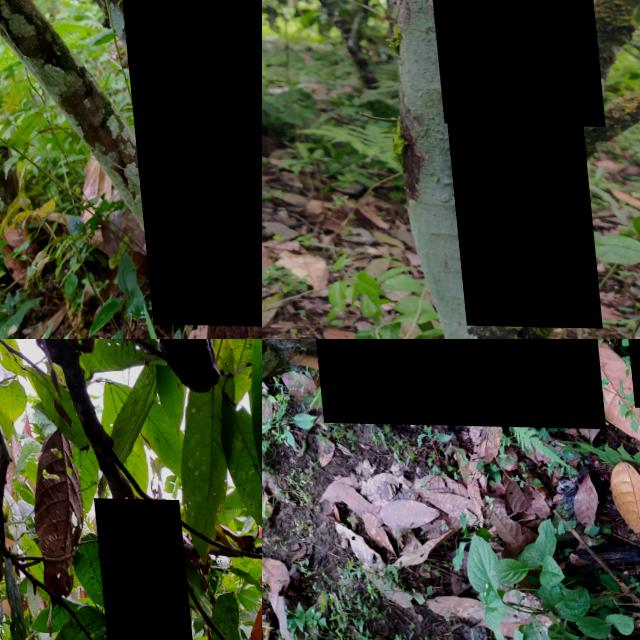Fitoftora: (111, 0, 262, 325), (438, 99, 590, 326), (408, 0, 597, 124), (214, 0, 262, 195)
Sana: (309, 339, 598, 427), (89, 496, 189, 640)
